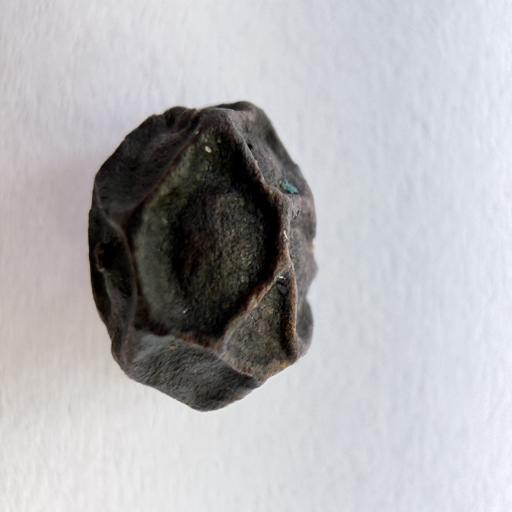Black_pepper: (80, 93, 342, 420)
